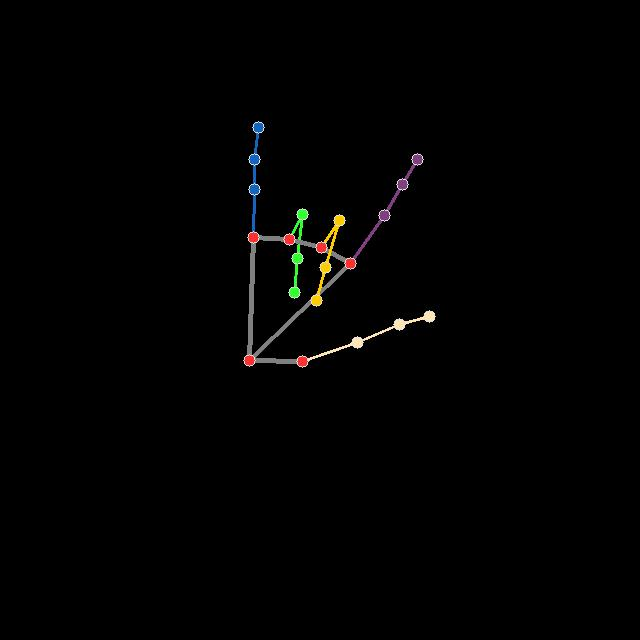spiderman: (243, 120, 441, 368)
